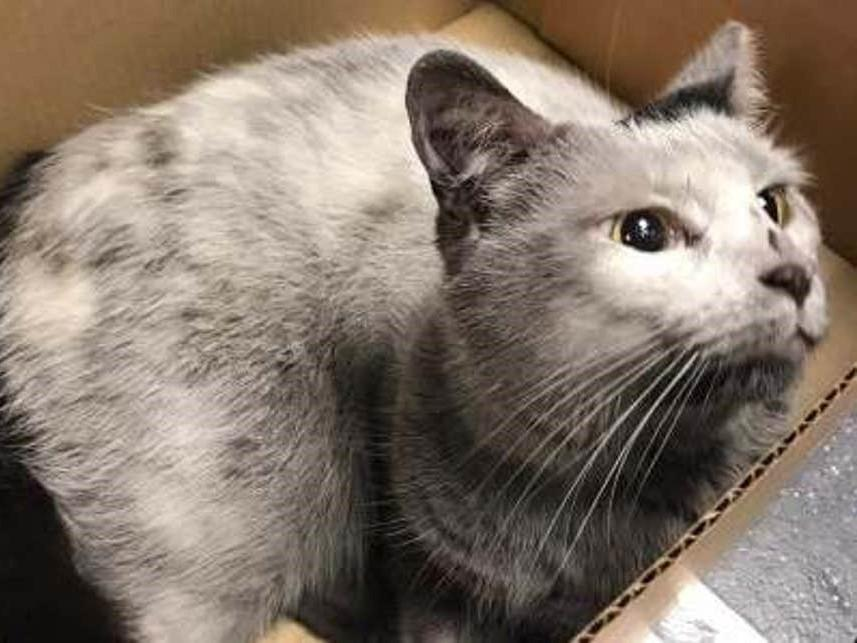cat: (7, 11, 850, 643)
